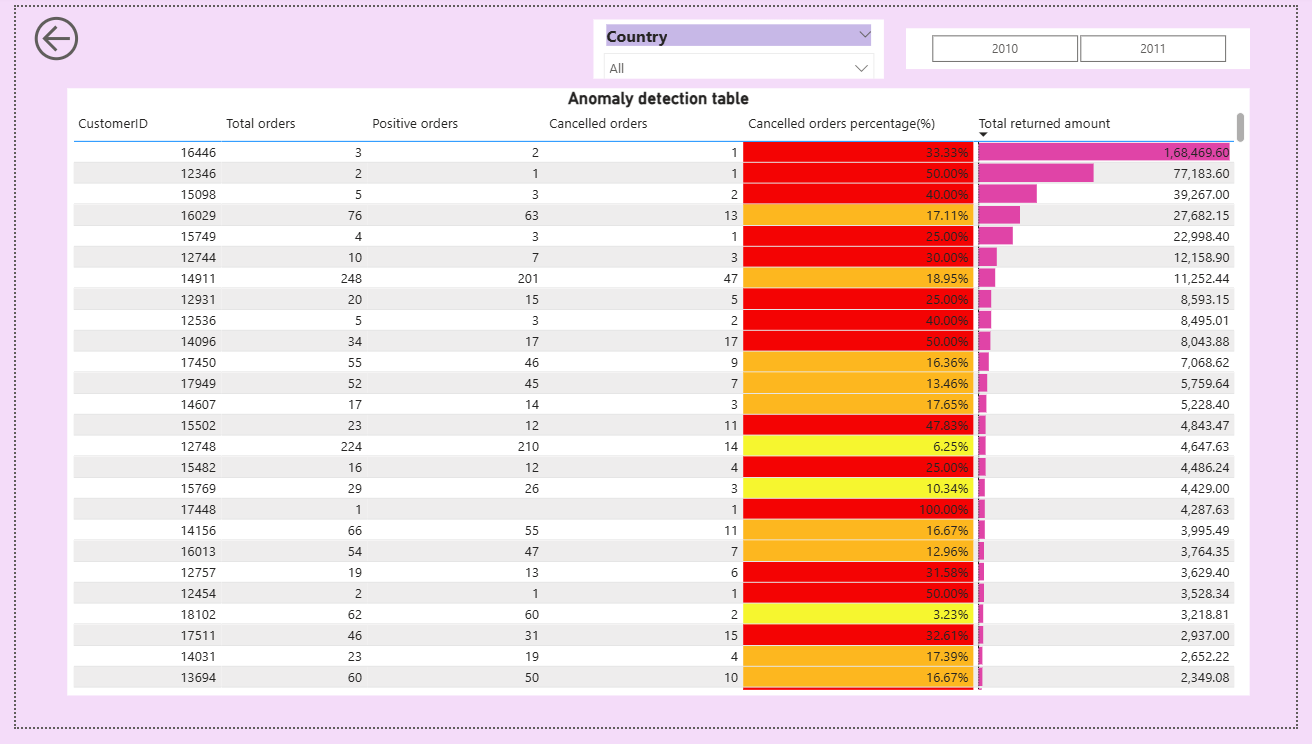

The dashboard page shown, as its layout file describes it:
{"tool":"powerbi","page":{"name":"anamolies table","canvas":[1280,720],"ordinal":14},"visuals":[{"type":"tableEx","title":"Anomaly detection table","fields":{"Values":["retail.CustomerID","retail.Total Invoices","retail.Orders Per Customer","retail.Cancelled Invoices","retail.Cancelled %","retail.Total returned amount"]},"box":[51.2,81.4,1182.6,607],"z":0},{"type":"actionButton","box":[12.8,1.2,55.8,60.5],"z":1000},{"type":"slicer","fields":{"Values":["retail.Year"]},"box":[889.5,20.9,344.2,40.7],"z":2000},{"type":"slicer","fields":{"Values":["retail.Country"]},"box":[577.9,12.8,290.7,59.3],"z":2001}]}

Visuals, with their boxes in screenshot pixels (x1, y1, x2, y2), scaled from the page's 1280x720 canvas onto the 1312x744 screenshot:
"Anomaly detection table" tableEx: Rect(52, 84, 1265, 711)
actionButton: Rect(13, 1, 70, 64)
slicer - retail.Year: Rect(912, 22, 1265, 64)
slicer - retail.Country: Rect(592, 13, 890, 75)
